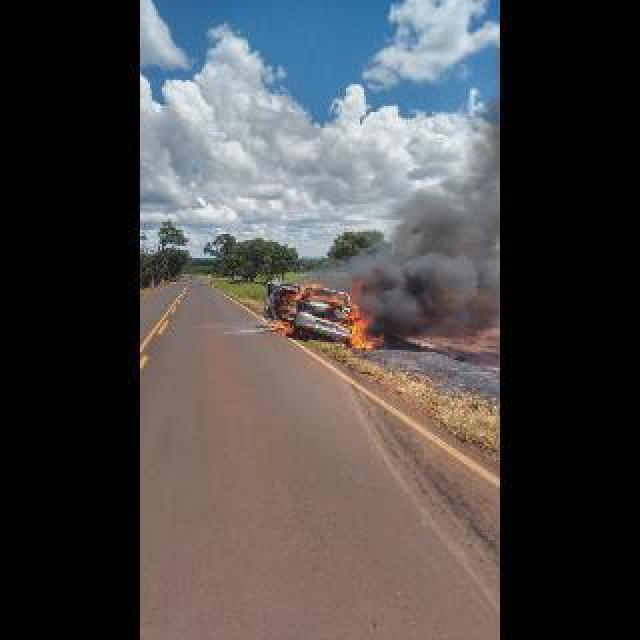fire: (342, 304, 378, 348), (280, 278, 340, 302), (270, 318, 292, 334)
